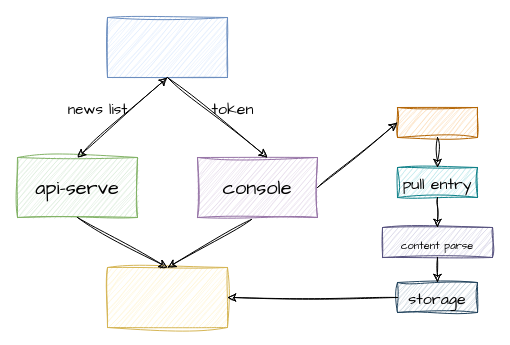
This 510x345 diagram has some shape labels left out. Each missing label, with the box of its shape:
add feed: (396, 106, 478, 138)
client: (106, 16, 228, 78)
DB: (106, 266, 228, 328)
